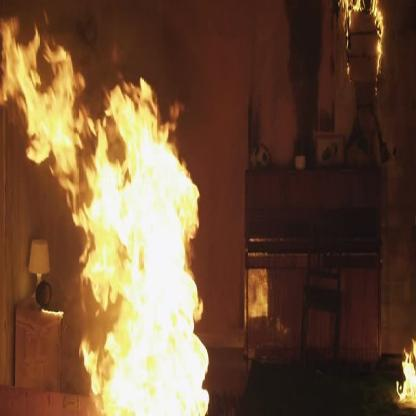fire: (0, 16, 212, 416), (332, 0, 387, 93), (397, 335, 416, 414)
